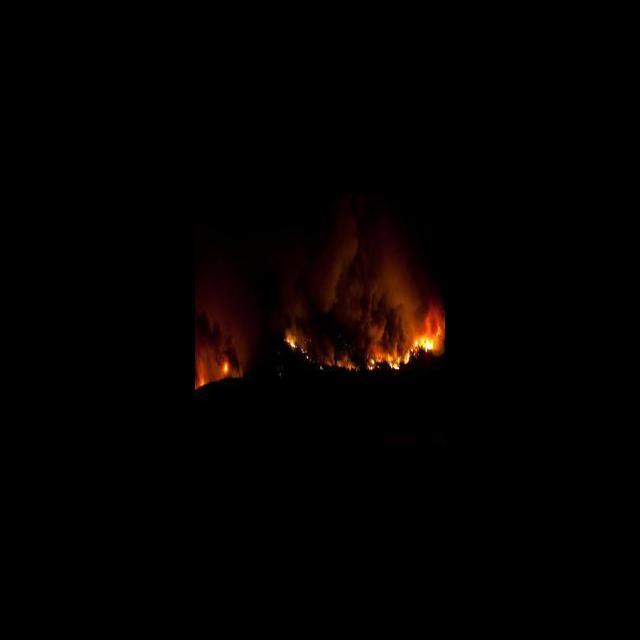Fire: (386, 350, 412, 371), (412, 334, 439, 353), (364, 351, 383, 371), (195, 364, 206, 389), (286, 334, 298, 352), (220, 361, 230, 374)
